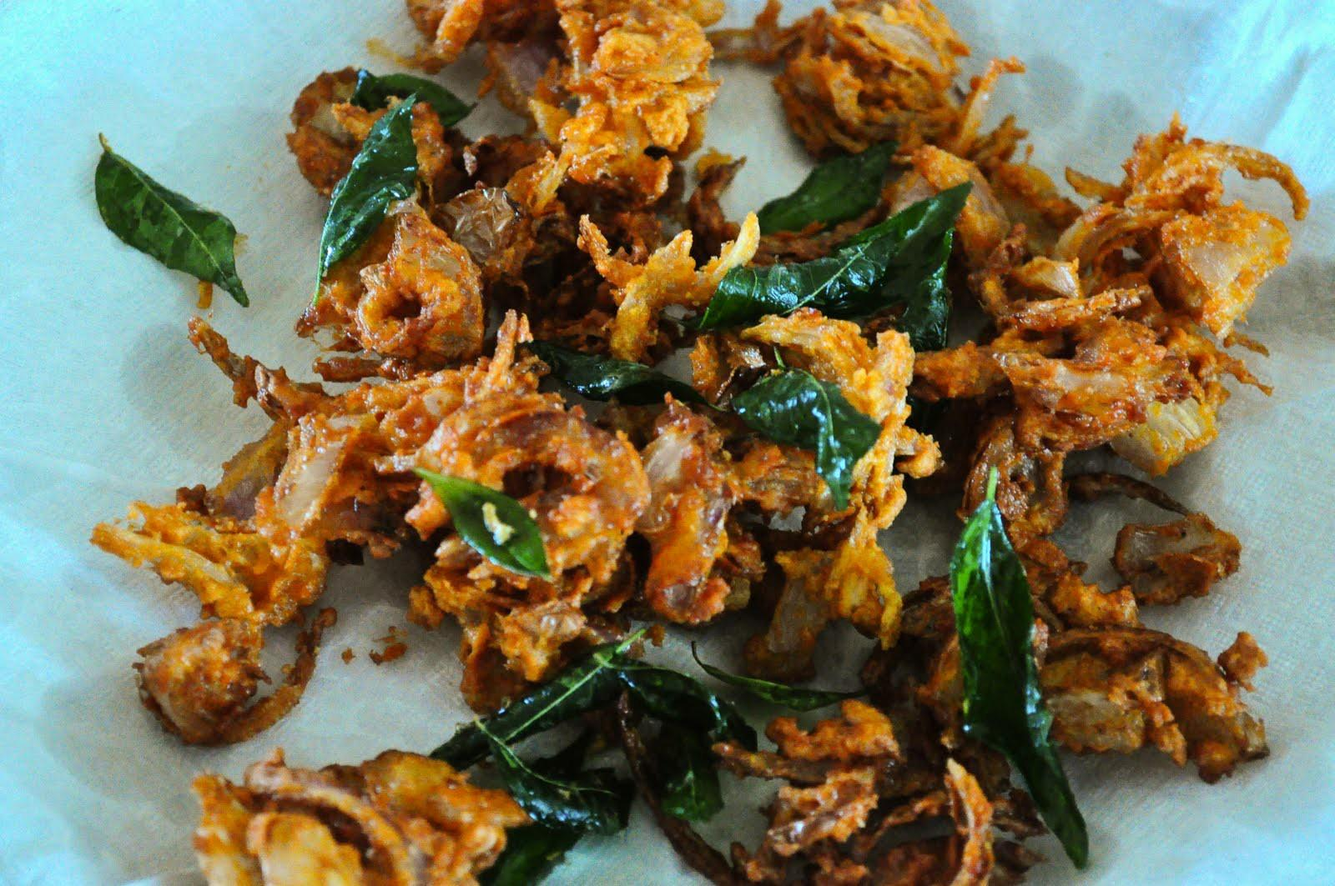OnionPakoda: (96, 4, 1316, 886)
